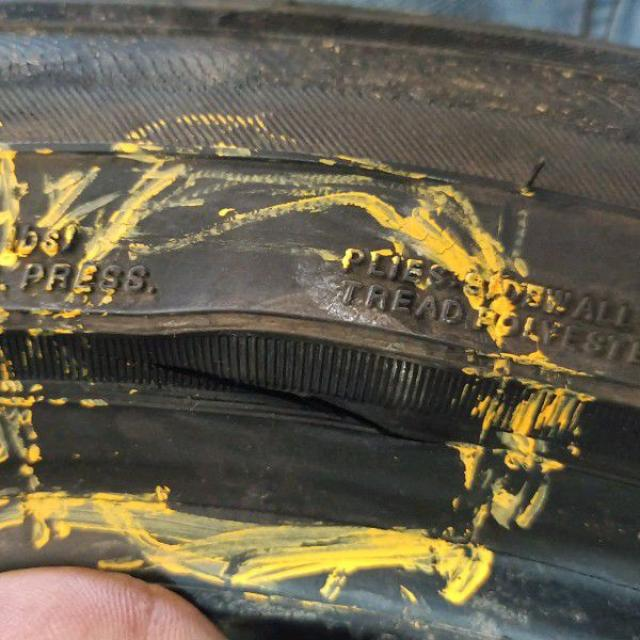Bulge: (134, 235, 494, 441)
